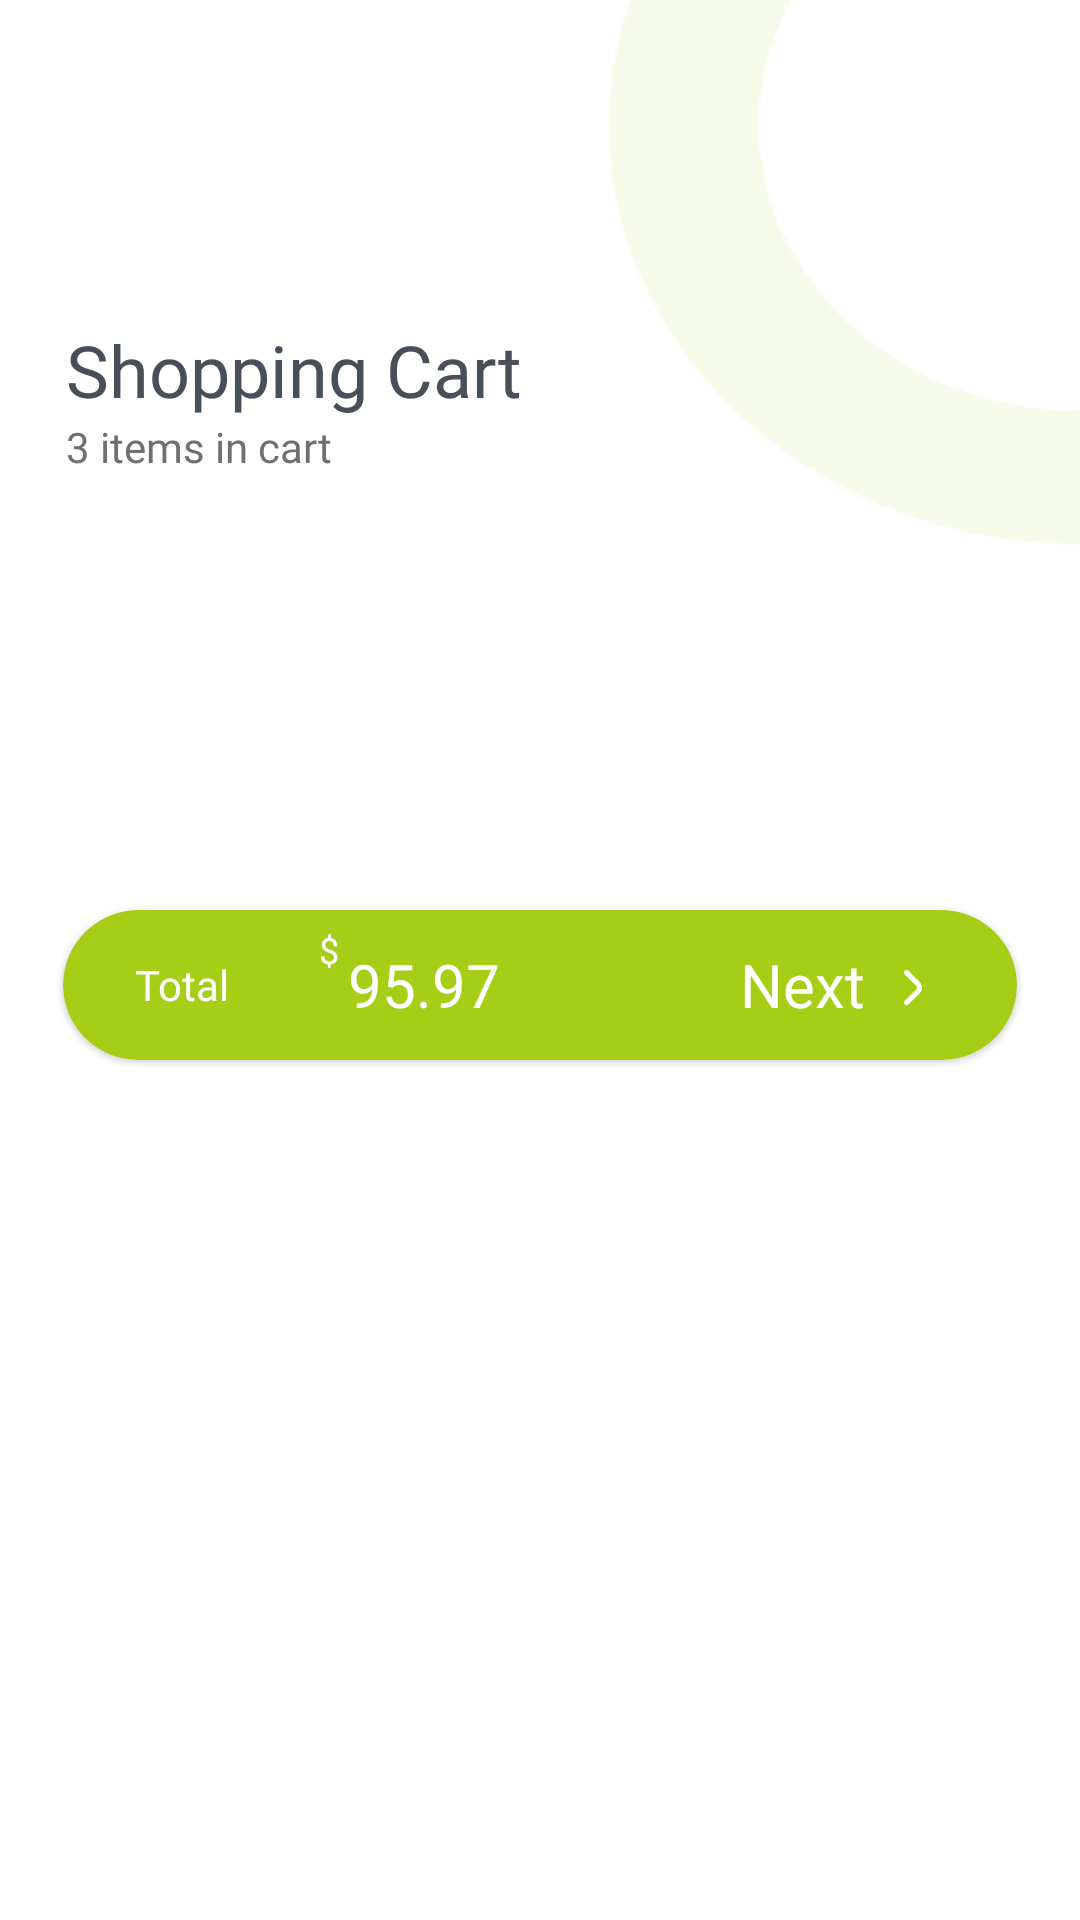

Icons on this 1080×1920 Android screen, each with its box as (x1, y1, x2, y2):
right: (904, 970, 922, 1006)
